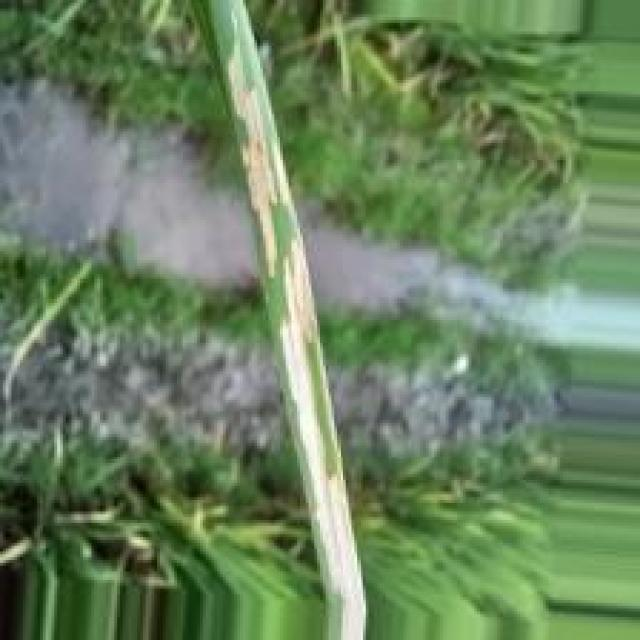Rice_Hispa: (278, 230, 366, 640), (216, 23, 289, 269)
